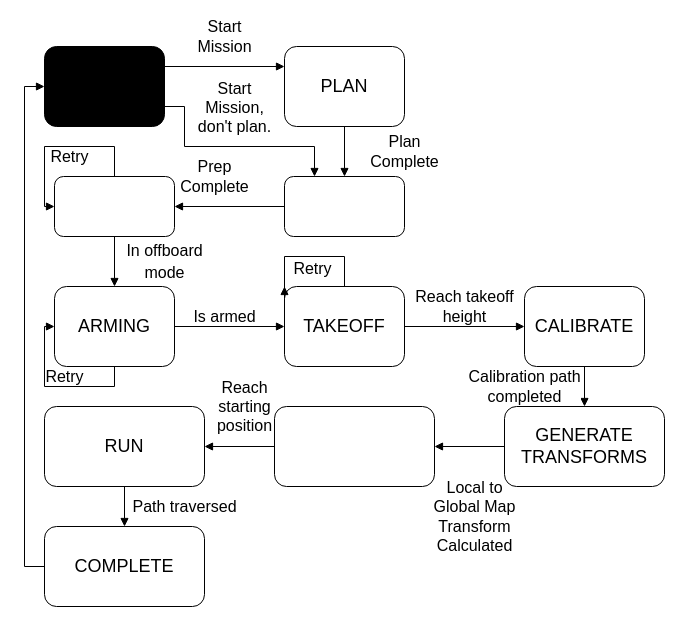
The diagram is 682 pixels wide and 624 high, and some of its shapes have lost their labels. The centre of each missing label's shape, as x and y in pixels:
"IDLE" belongs at pixel 104 86.
"OFFBOARD MODE" belongs at pixel 114 206.
"PRE RUN" belongs at pixel 354 446.
"PREP" belongs at pixel 344 206.
